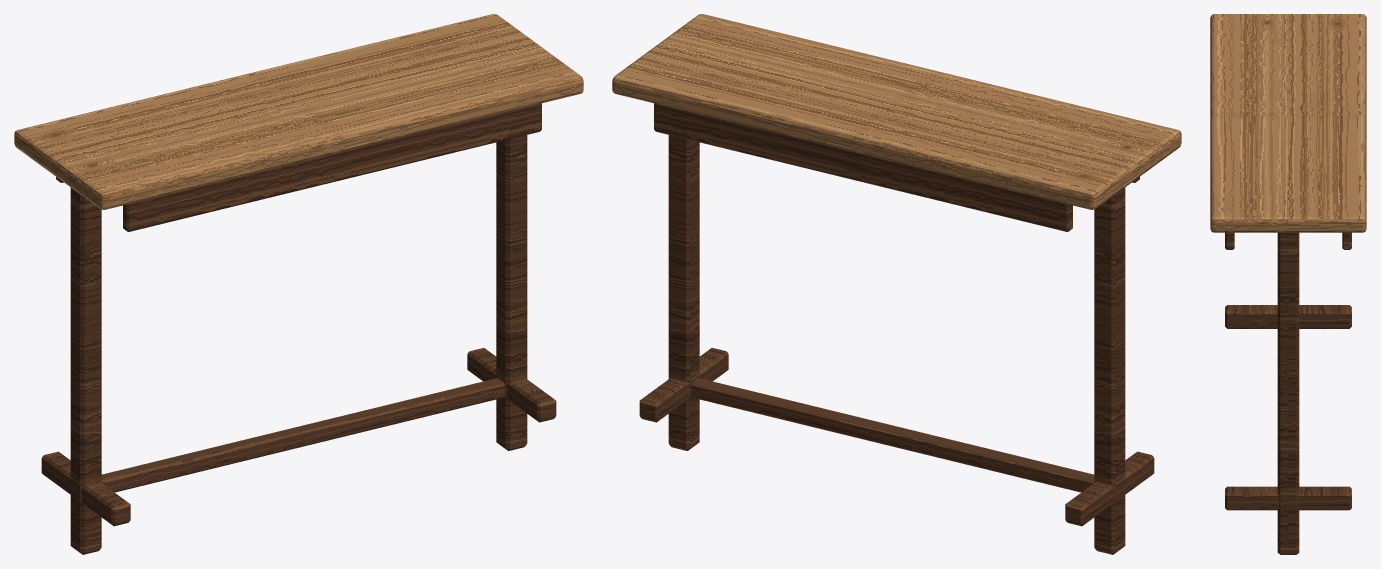
Rendered from console_table.glb.
The picture shows the model from 3 angles, left to right: view 1: azimuth 30°, elevation 25°; view 2: azimuth 150°, elevation 25°; view 3: azimuth 270°, elevation 25°; orthographic projection. The views are drawn at different scales.
Visible parts, largest first — view 1: p; view 2: p; view 3: p.
Boxes of the visible parts, x1,y1,x2,y2 form: p: [14, 14, 583, 554]; p: [612, 14, 1181, 554]; p: [1210, 14, 1366, 554].
Size of the model in its own units: 1 by 0.78 by 0.32.
Materials: 2 (2 with a texture image).
